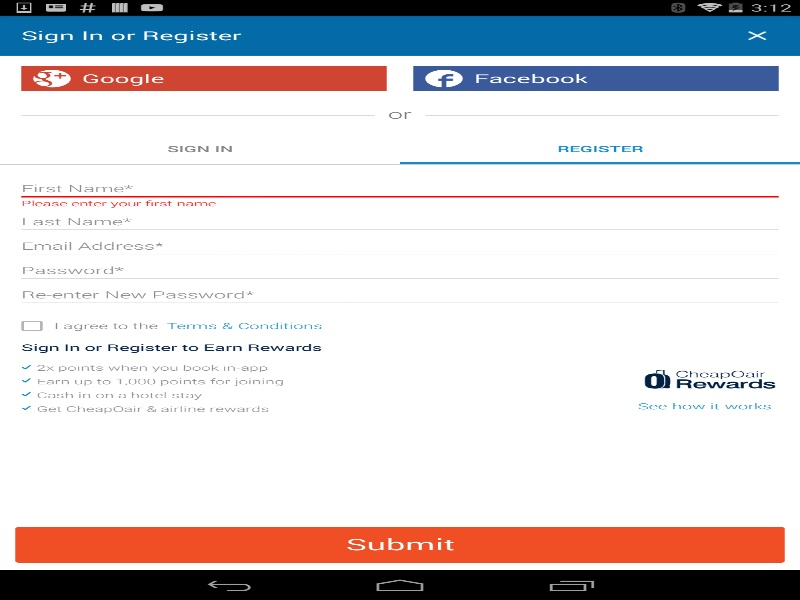Button: (15, 526, 784, 562)
Input: (21, 177, 778, 212), (21, 234, 778, 261), (21, 283, 778, 310), (21, 210, 778, 236), (21, 259, 778, 285)
